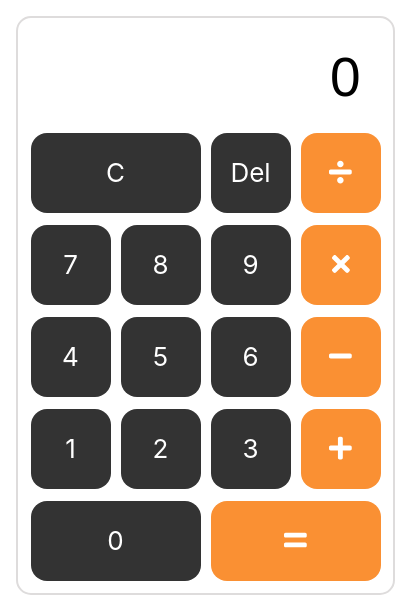
it: result shoudld be 1 if 9 is divided with 9
The image size is (412, 612).
Click the text with test id "number-click-C" at (116, 173), box [30,133,200,213]
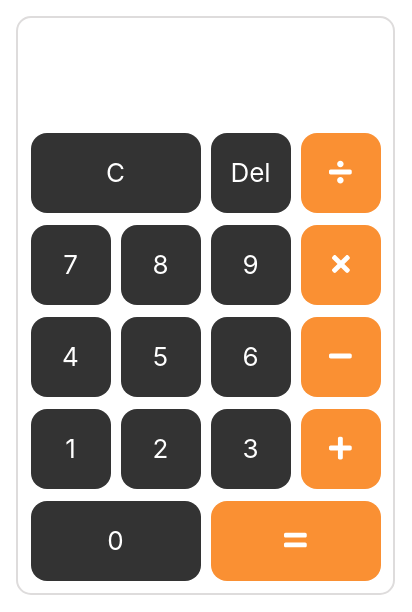
Click the text with test id "number-click-9" at (250, 265), box [210,225,290,305]
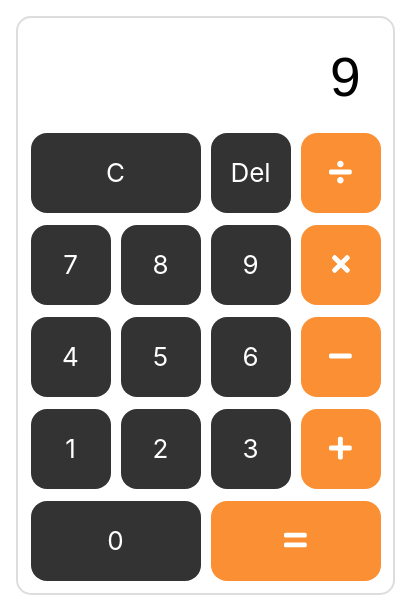
Click the element with test id "attribute-click-divide" at (340, 173), box [300,133,380,213]
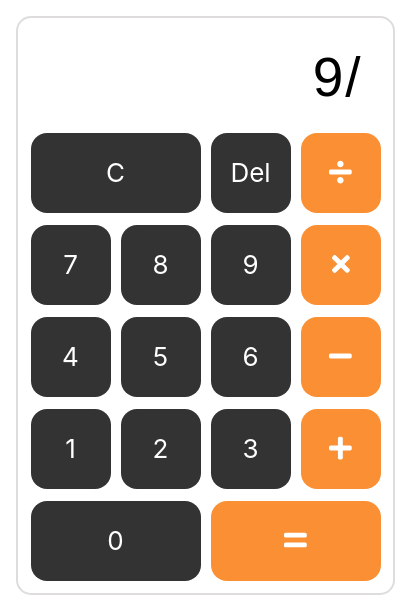
Click the text with test id "number-click-9" at (250, 265), box [210,225,290,305]
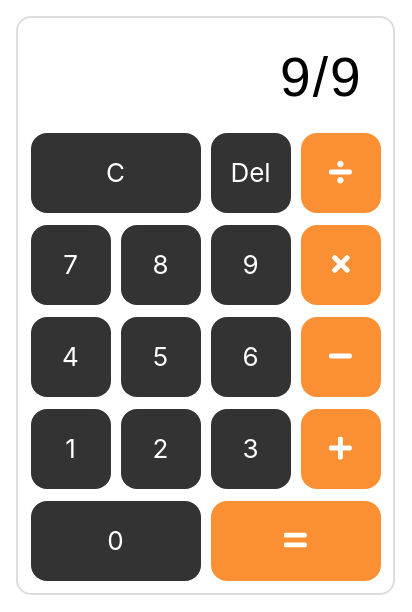
Click the element with test id "attribute-click-equals" at (296, 541), box [210,501,380,581]
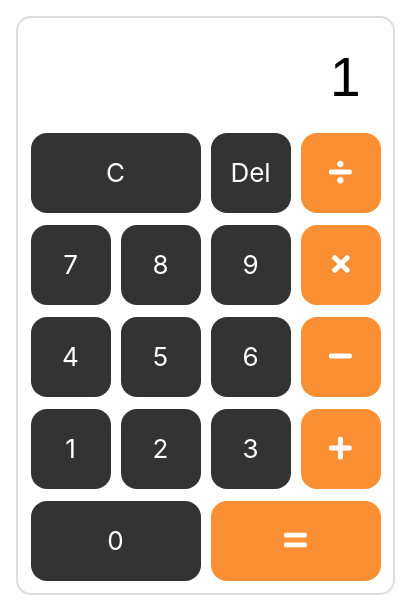
Expected: the text with test id "result" reads "1", [330,46,362,108]
